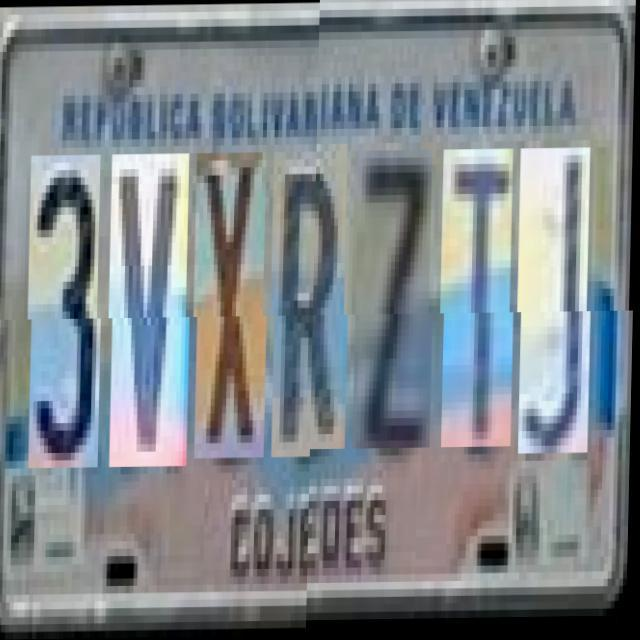3: (30, 155, 106, 468)
J: (520, 157, 595, 463)
R: (273, 152, 352, 458)
T: (443, 158, 518, 456)
V: (112, 154, 194, 467)
X: (196, 153, 271, 459)
Z: (354, 159, 436, 457)
